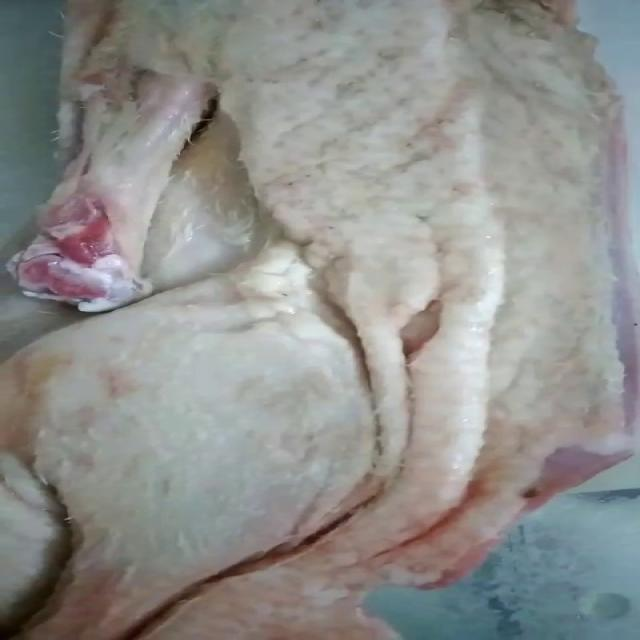chicken: (1, 0, 636, 638)
